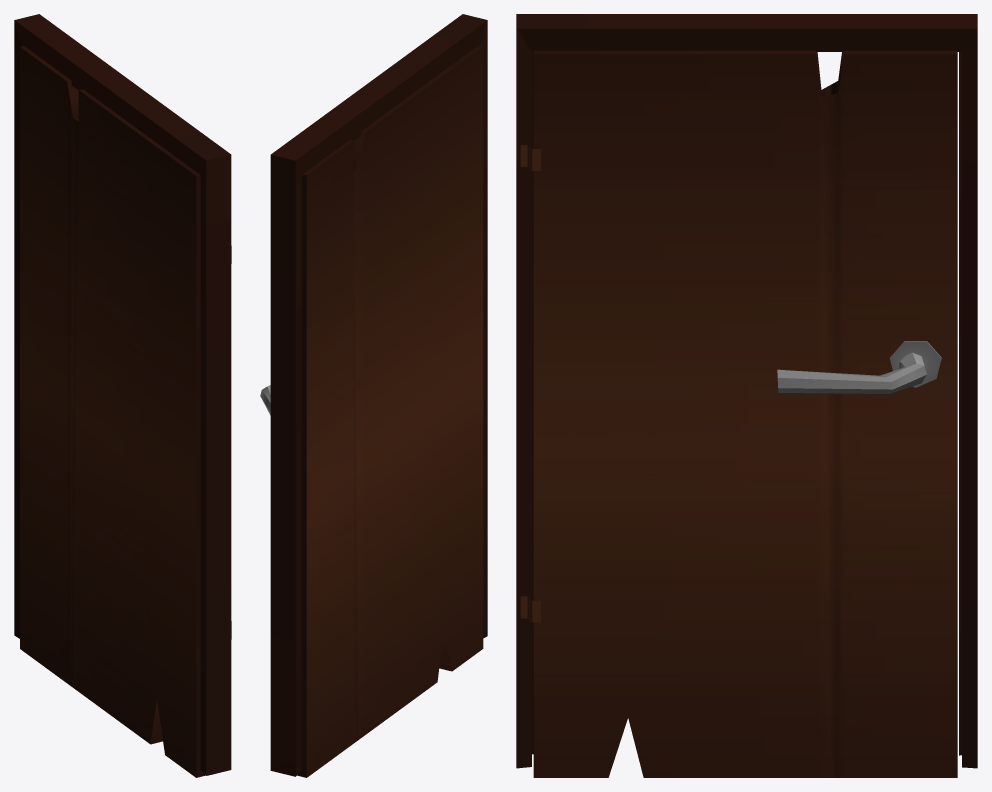
The model's file is puerta2contextura.fbx.
3 renders of one model, left to right at view 1: azimuth 30°, elevation 25°; view 2: azimuth 150°, elevation 25°; view 3: azimuth 270°, elevation 25°, orthographic. The views are drawn at different scales.
Visible parts, largest first — view 1: pCube1; view 2: pCube1; view 3: pCube1.
Boxes of the visible parts, bbox=[...] form: pCube1: bbox=[14, 14, 231, 777]; pCube1: bbox=[260, 14, 487, 777]; pCube1: bbox=[516, 14, 977, 777].
Size of the model in its own units: 42.91 by 348 by 194.
Materials: 1 (1 with a texture image).
